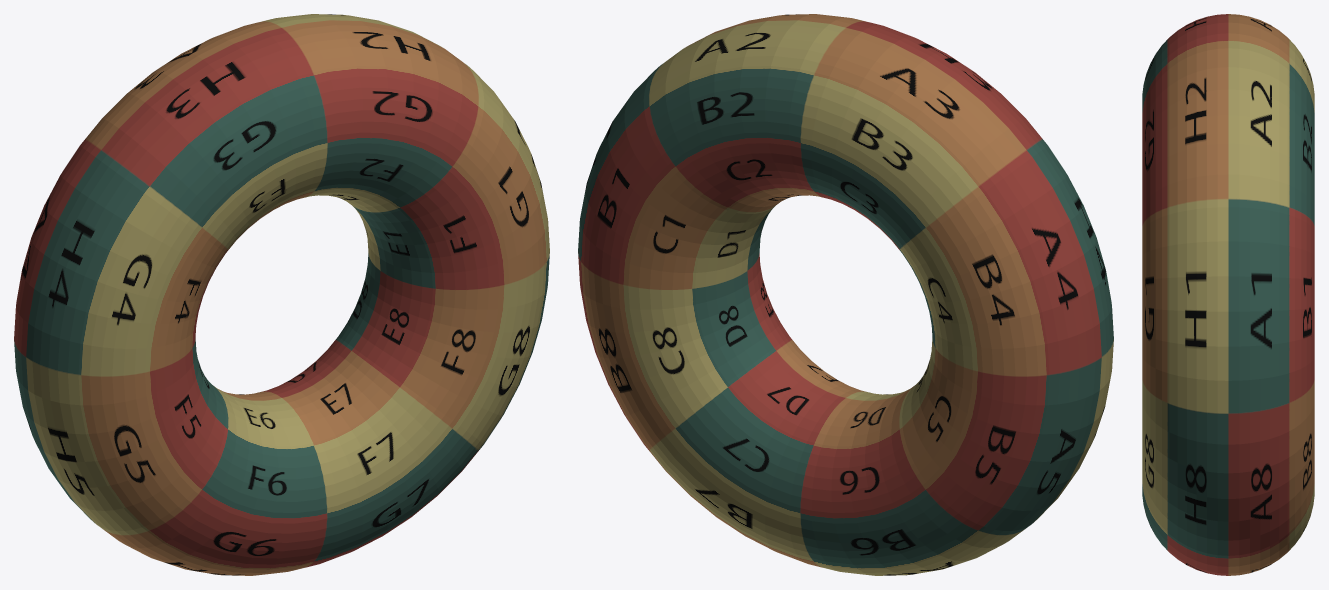
The model's file is texture_torus_R17_r28.glb.
3 views of the same model, side by side, from view 1: azimuth 30°, elevation 25°; view 2: azimuth 150°, elevation 25°; view 3: azimuth 270°, elevation 25° (orthographic). The views are drawn at different scales.
Parts seen in each view (by area): view 1: world; view 2: world; view 3: world.
Part boxes in pixels (<box>): world: <box>14,14,549,575</box>; world: <box>578,14,1113,575</box>; world: <box>1142,14,1314,575</box>.
Size of the model in its own units: 30.8 by 30.74 by 9.45.
Materials: 1 (1 with a texture image).
